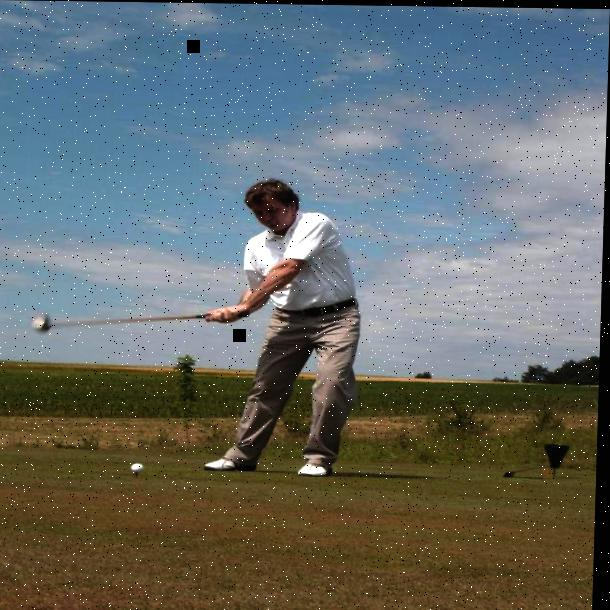ClubHead: (27, 306, 85, 348)
GolfBall: (125, 460, 152, 473)
